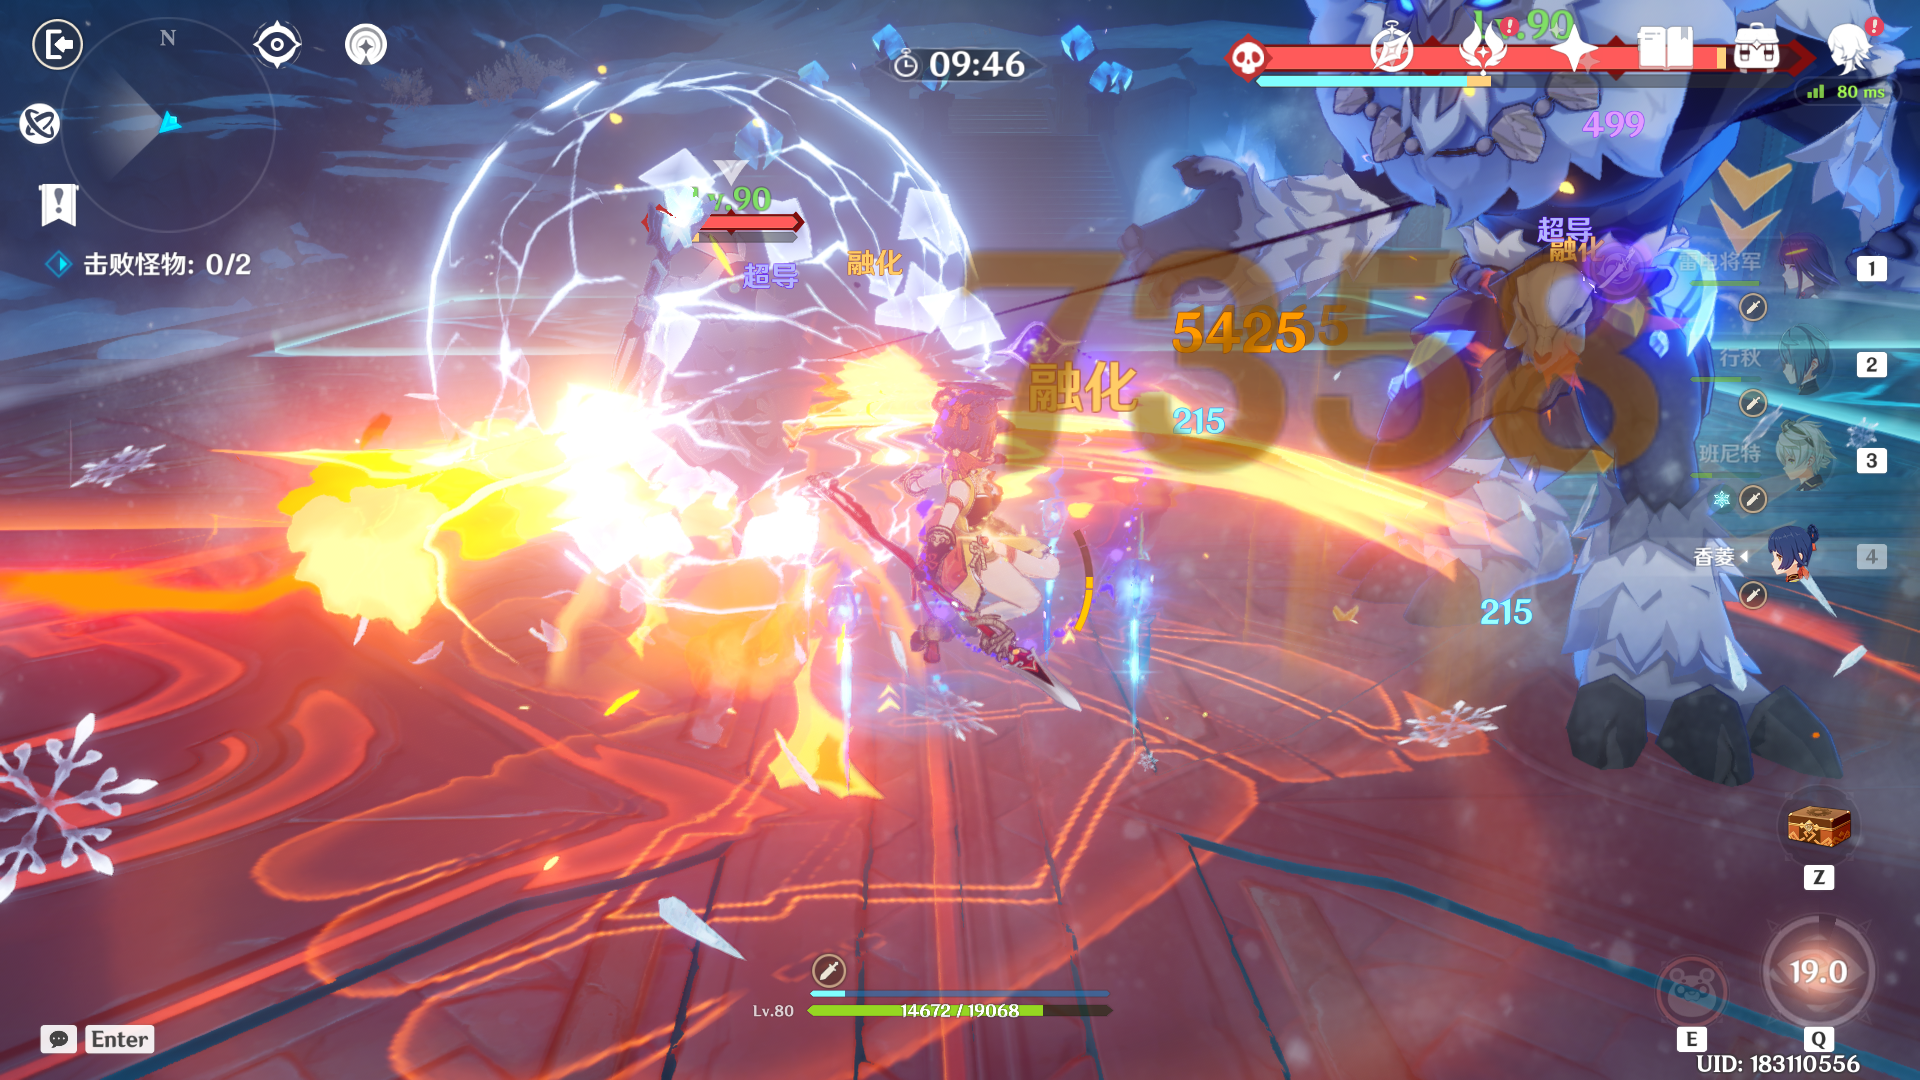bosshili: (1120, 1, 1920, 775)
caster: (547, 169, 886, 605)
character: (851, 355, 1095, 719)
